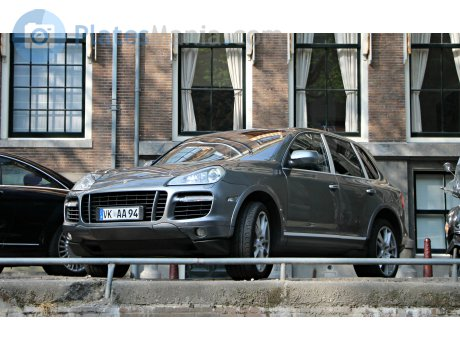License Plates: (104, 208, 142, 215)
